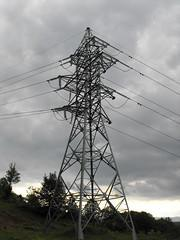power_tower: (44, 20, 138, 240)
